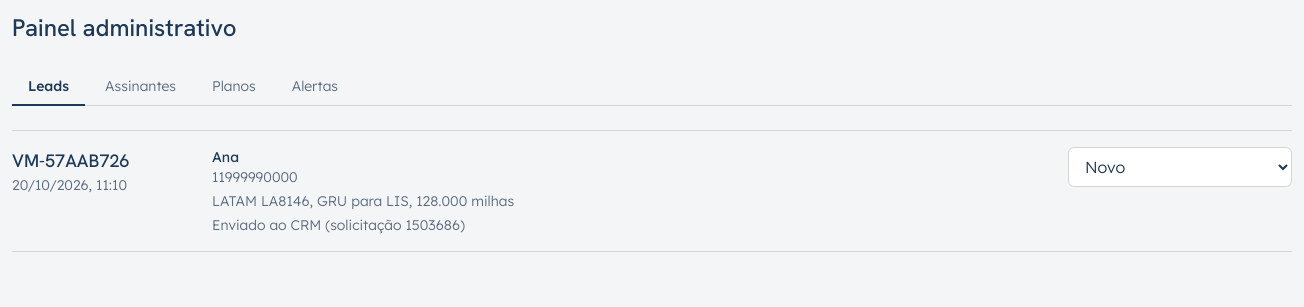
Scenario: Admin › mostra o erro quando a verificação falha
The width and height of the screenshot is (1304, 307).
Click the tab "Alertas" at [315, 87], box [276,68,354,106]
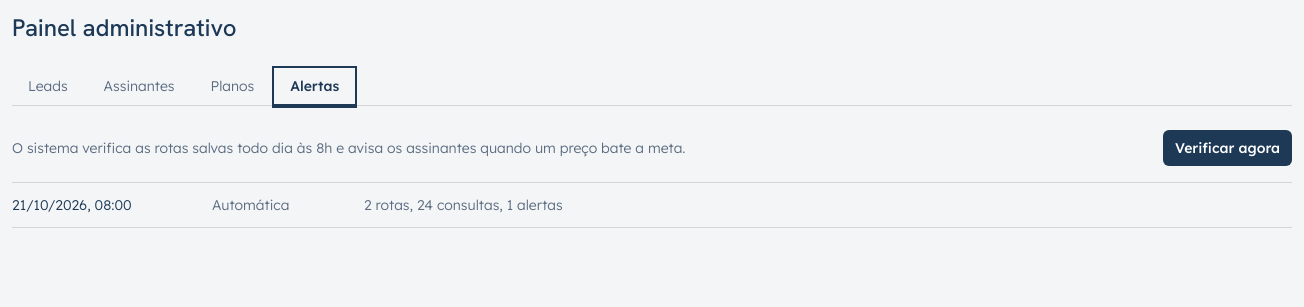
Click the button "Verificar agora" at [1228, 148], box [1163,130,1292,166]
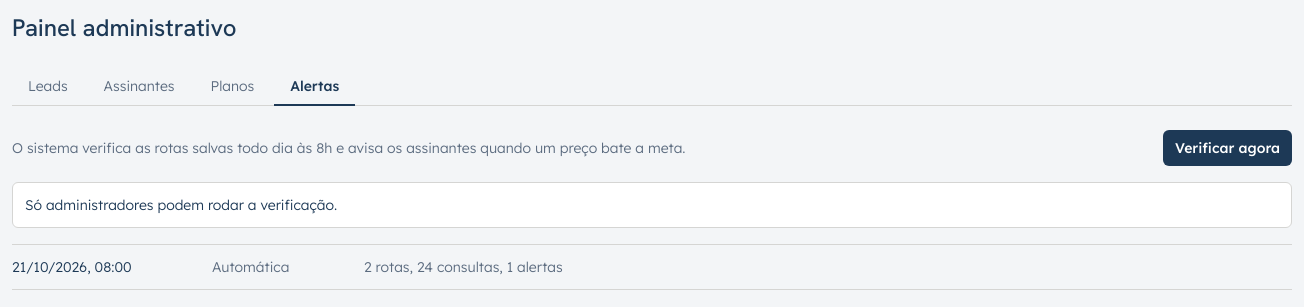
Now the message shows "Só administradores", box [25,196,337,214]
